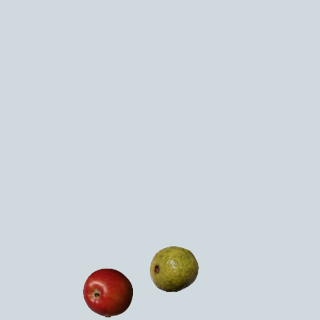Apple Braeburn: (82, 267, 132, 317)
Guava: (148, 243, 198, 293)
